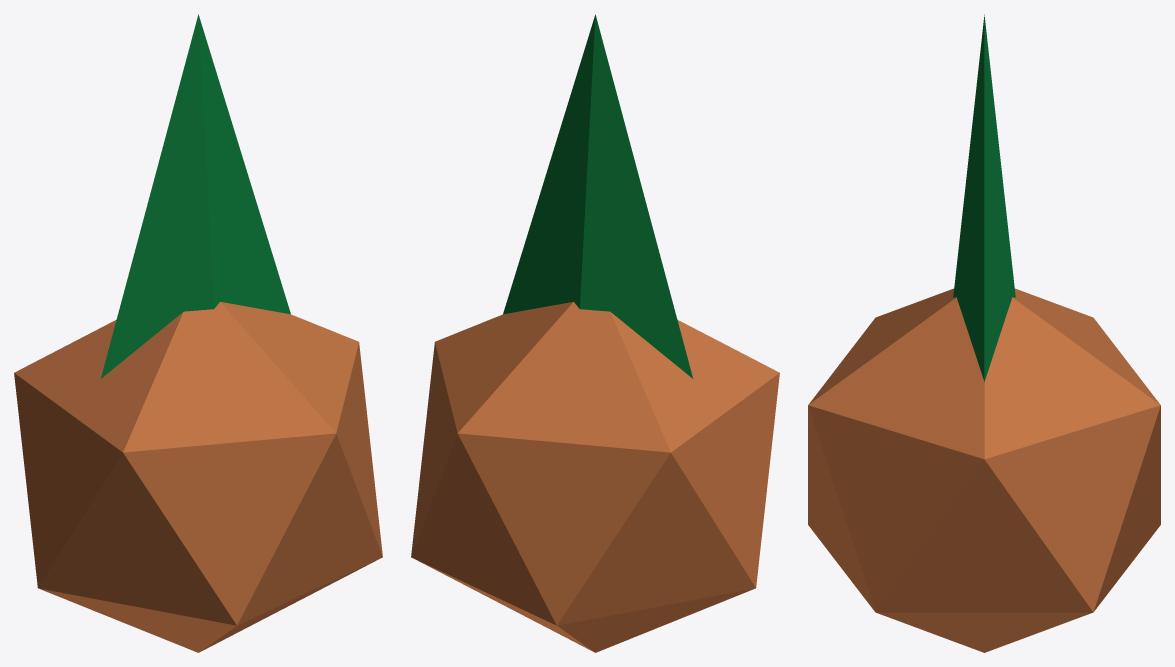
File: Item_OR_Herb_06.glb
The picture shows the model from 3 angles, left to right: view 1: azimuth 30°, elevation 25°; view 2: azimuth 150°, elevation 25°; view 3: azimuth 270°, elevation 25°; orthographic projection.
Parts seen in each view (by area): view 1: Item_OR_Herb_06; view 2: Item_OR_Herb_06; view 3: Item_OR_Herb_06.
Boxes of the visible parts, bbox=[...] form: Item_OR_Herb_06: bbox=[14, 14, 382, 652]; Item_OR_Herb_06: bbox=[411, 14, 779, 652]; Item_OR_Herb_06: bbox=[808, 14, 1160, 652].
Bounding box in the file's own units: 0.0894 × 0.17 × 0.0851.
